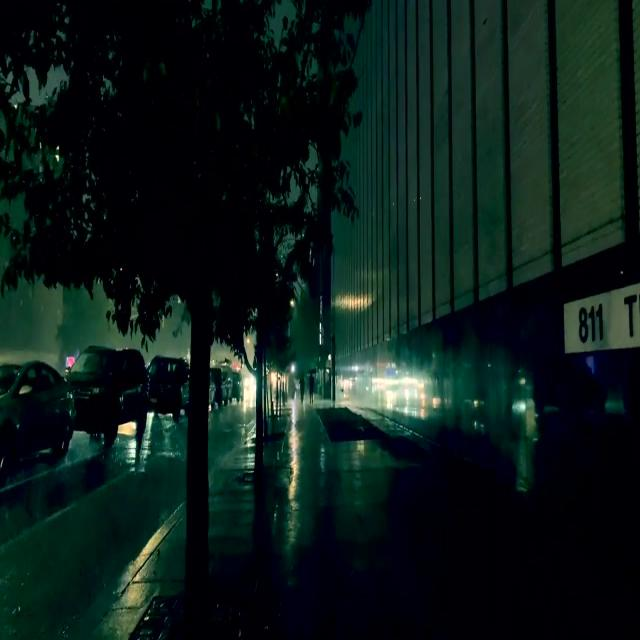Car: (66, 347, 147, 440)
